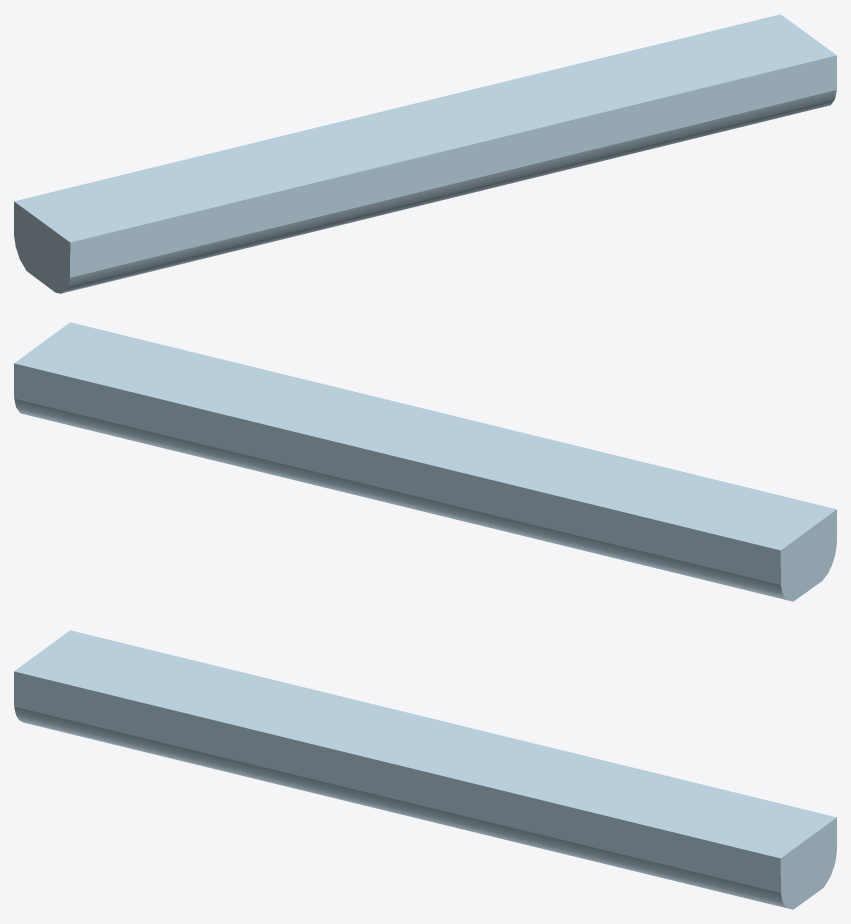
The model's file is LegacySide.fbx.
3 renders of one model, top to bottom at view 1: azimuth 30°, elevation 25°; view 2: azimuth 150°, elevation 25°; view 3: azimuth 330°, elevation 25°, orthographic.
Parts seen in each view (by area): view 1: Part 1; view 2: Part 1; view 3: Part 1.
Part boxes in pixels (x1,y1,x2,y2): Part 1: [14, 14, 836, 293]; Part 1: [14, 322, 836, 601]; Part 1: [14, 630, 836, 909].
Bounding box in the file's own units: 100 × 7.6 × 12.7.
